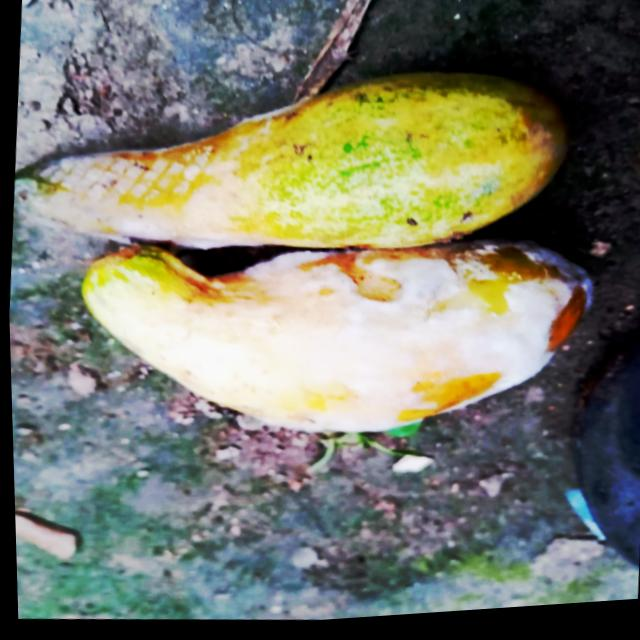Pythium-Fruit-Rot: (211, 229, 600, 463), (16, 128, 261, 270)
